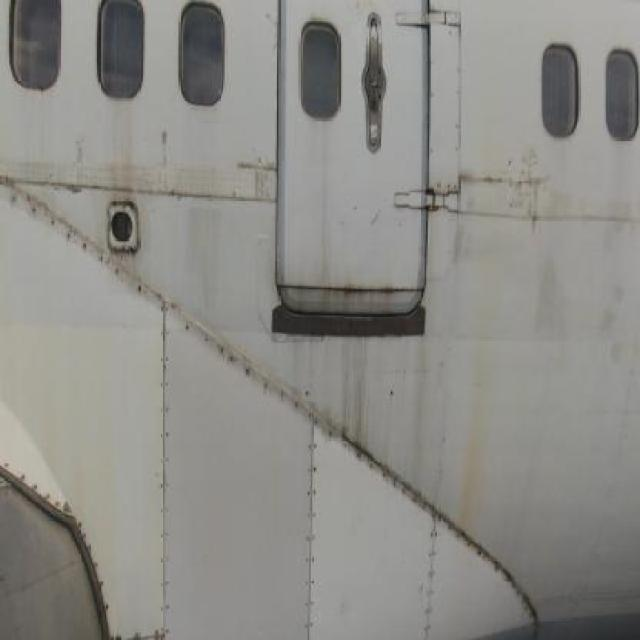Rust: (450, 232, 502, 534), (336, 329, 381, 462), (307, 260, 413, 308), (104, 108, 144, 210)
Scartch: (531, 239, 635, 384), (477, 150, 566, 228), (188, 202, 227, 321), (235, 147, 277, 213)
